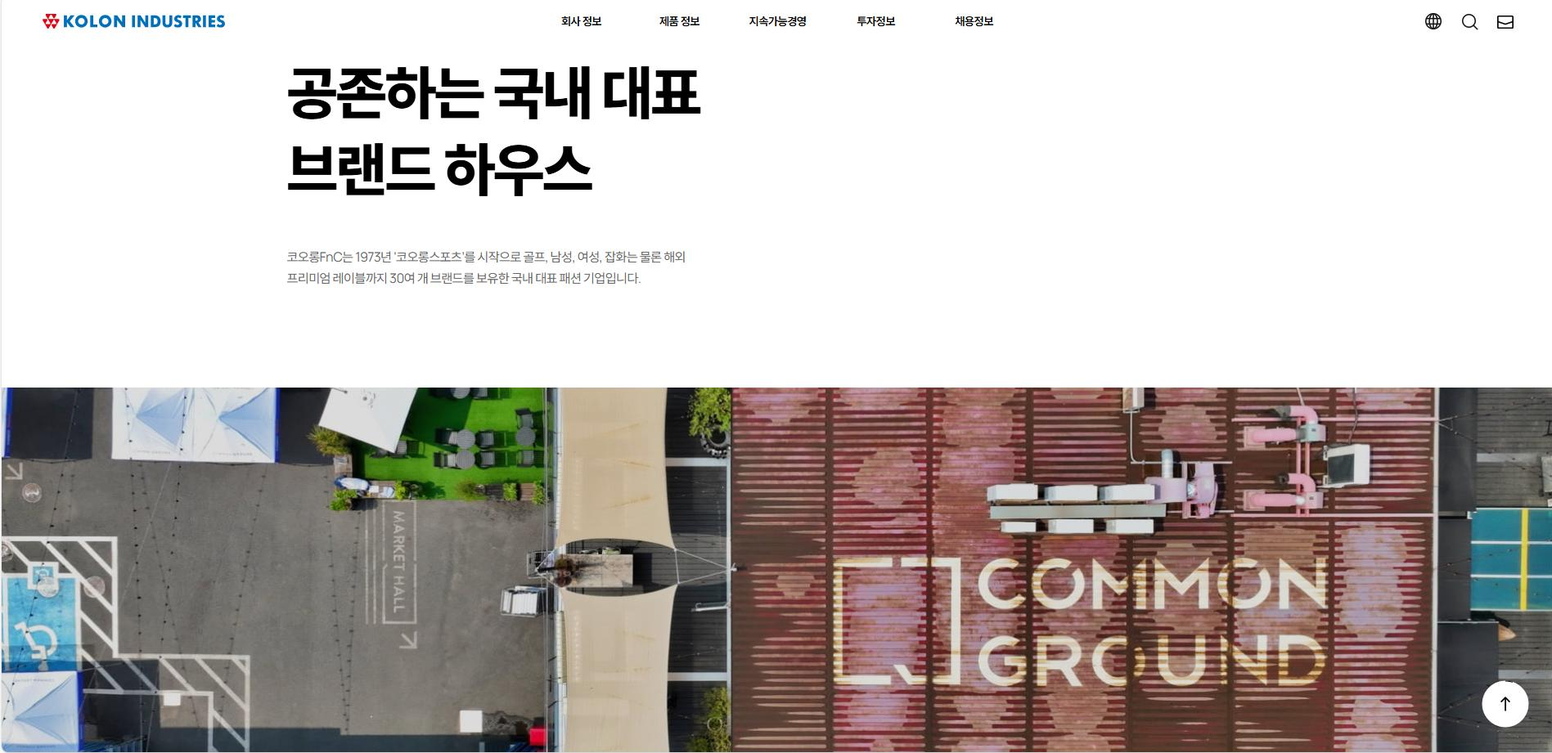button: (745, 3, 817, 46), (938, 2, 1014, 42), (1479, 677, 1534, 725), (841, 3, 916, 32), (562, 2, 614, 35), (653, 8, 710, 38), (1449, 11, 1496, 42), (1498, 13, 1528, 43), (1418, 12, 1449, 38)
